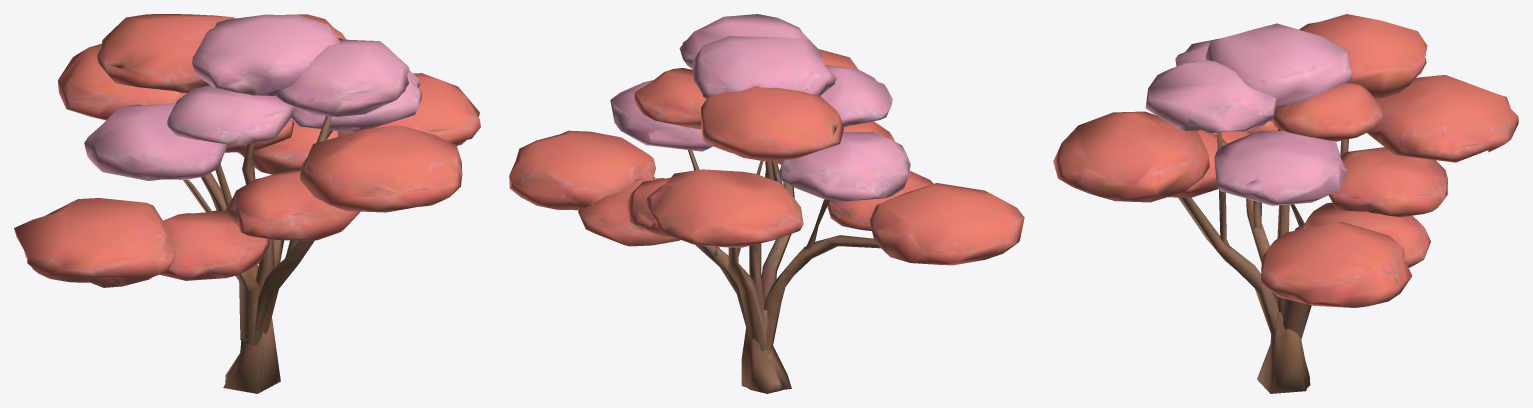
The model's file is maple.glb.
The picture shows the model from 3 angles, left to right: view 1: azimuth 30°, elevation 25°; view 2: azimuth 150°, elevation 25°; view 3: azimuth 270°, elevation 25°; orthographic projection. The views are drawn at different scales.
Visible parts, largest first — view 1: maple-tree_body; view 2: maple-tree_body; view 3: maple-tree_body.
Boxes of the visible parts, x1=… form: maple-tree_body: x1=14, y1=14, x2=480, y2=393; maple-tree_body: x1=509, y1=14, x2=1024, y2=393; maple-tree_body: x1=1053, y1=14, x2=1518, y2=393.
Bounding box in the file's own units: 6.78 × 4.72 × 5.7.
1 material, 1 textured.
